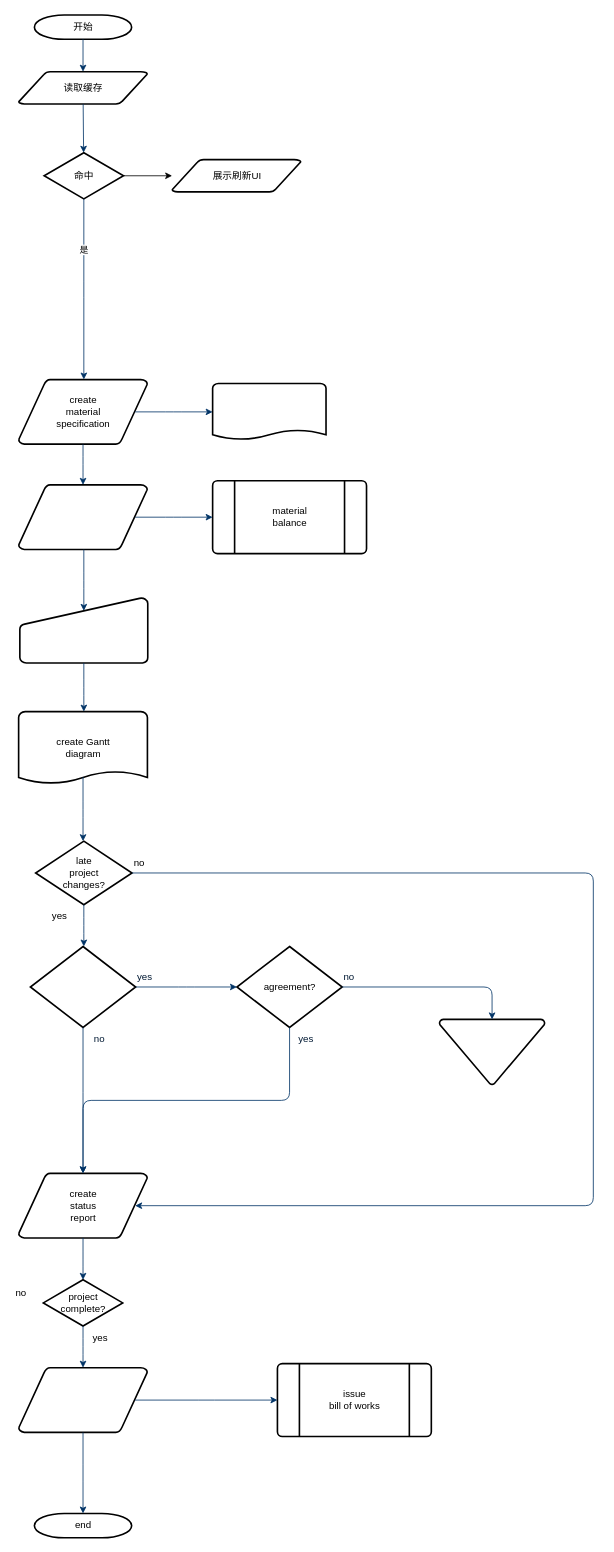
The diagram is 614 pixels wide and 1552 high, and some of its shapes have lost their labels. Here are the shapes that lost their labels. From the top down, the centre of each, then its label:
At (x=268, y=411): "final project".
At (x=82, y=517): "order material".
At (x=83, y=630): "organize workforce".
At (x=82, y=986): "investor disapproves investment?".
At (x=491, y=1051): "terminate contract".
At (x=82, y=1399): "create final report".
